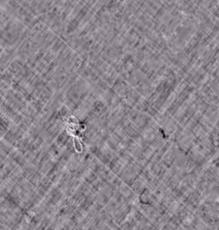snag: (55, 111, 96, 157)
